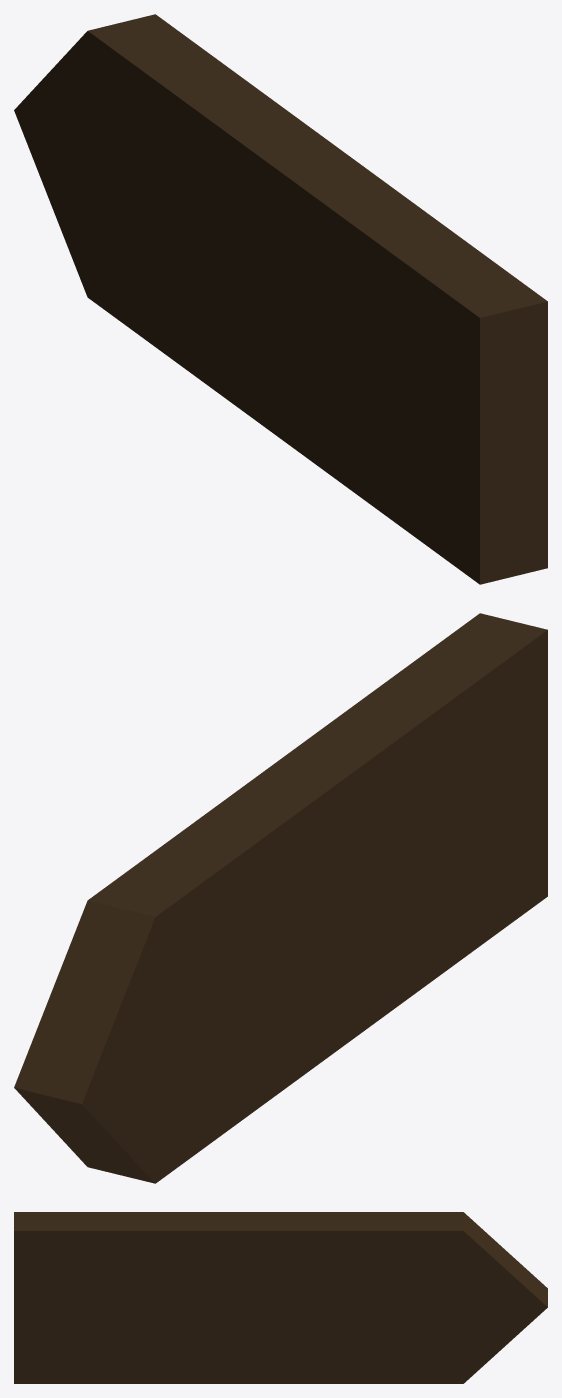
The model's file is woodSign.fbx.
The picture shows the model from 3 angles, top to bottom: view 1: azimuth 30°, elevation 25°; view 2: azimuth 150°, elevation 25°; view 3: azimuth 270°, elevation 25°; orthographic projection. The views are drawn at different scales.
Visible parts, largest first — view 1: Cube; view 2: Cube; view 3: Cube.
Boxes of the visible parts, box(x1,y1,x2,y2) form: Cube: box(14, 14, 547, 584); Cube: box(14, 613, 547, 1183); Cube: box(14, 1212, 547, 1383).
Size of the model in its own units: 40 by 150 by 475.
